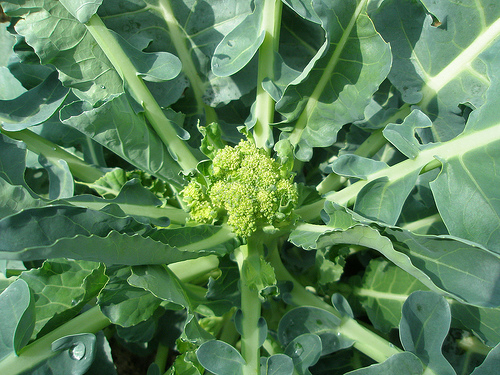broccoli: (172, 130, 316, 243)
